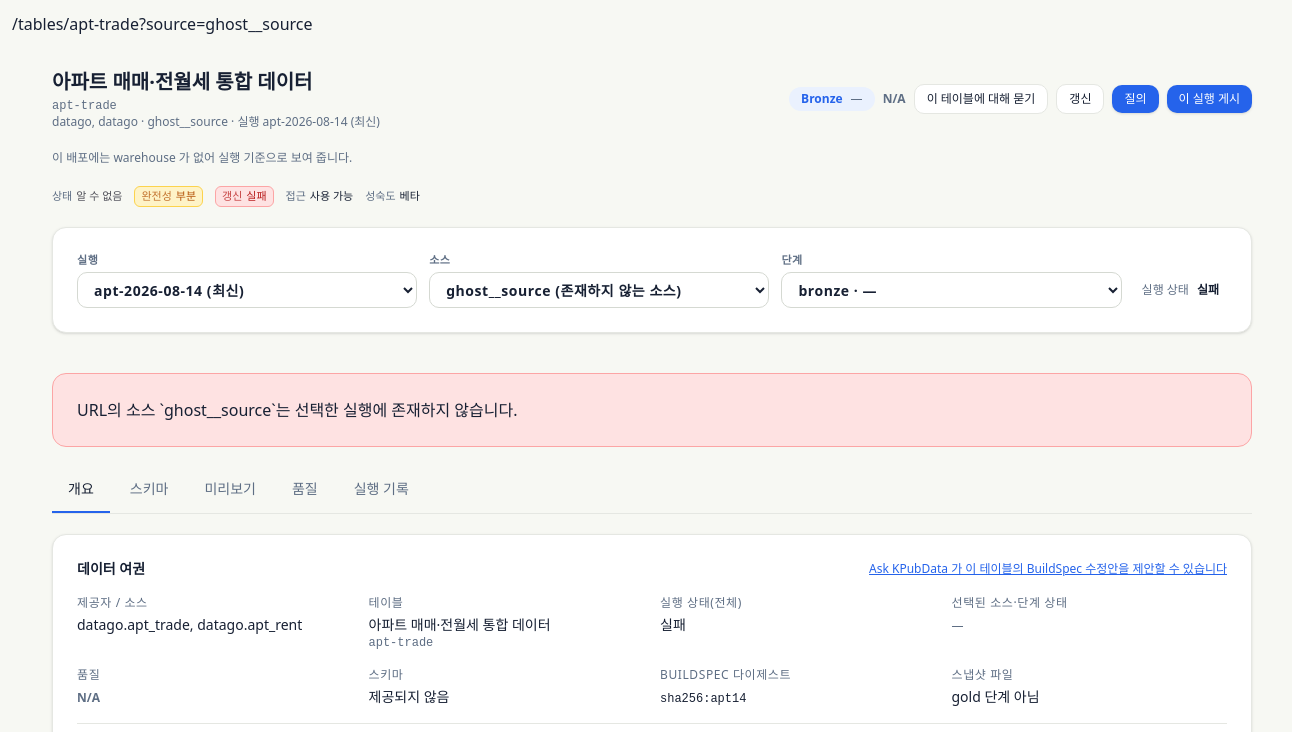
Test: Dataset Detail P0 (#253) › keeps an invalid source visible in the select with a recovery path
expect the message shows "ghost__source": met, box top-left (77, 399), bottom-right (518, 421)
Select "datago__trade" in the dropdown named "소스 선택" at (599, 290), box top-left (429, 272), bottom-right (769, 308)
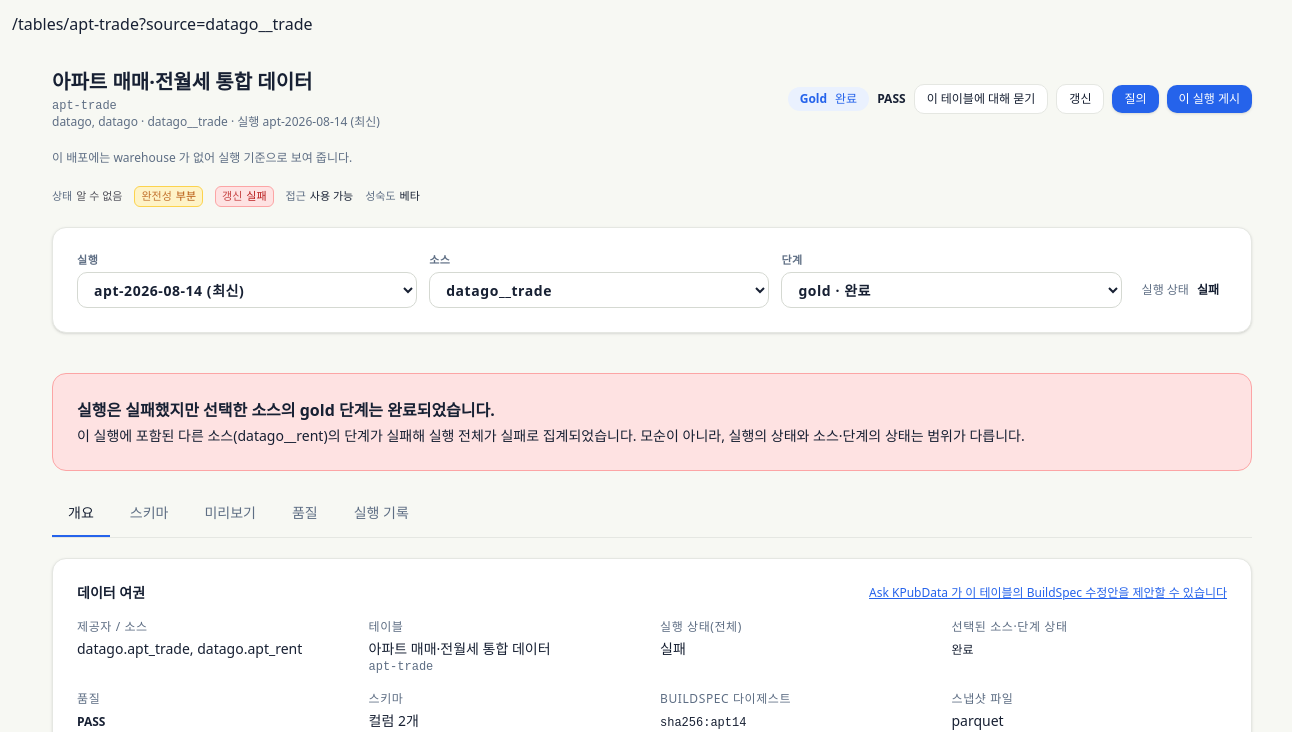
expect the text with test id "location" shows "source=datago__trade": met, box top-left (139, 13), bottom-right (312, 35)
